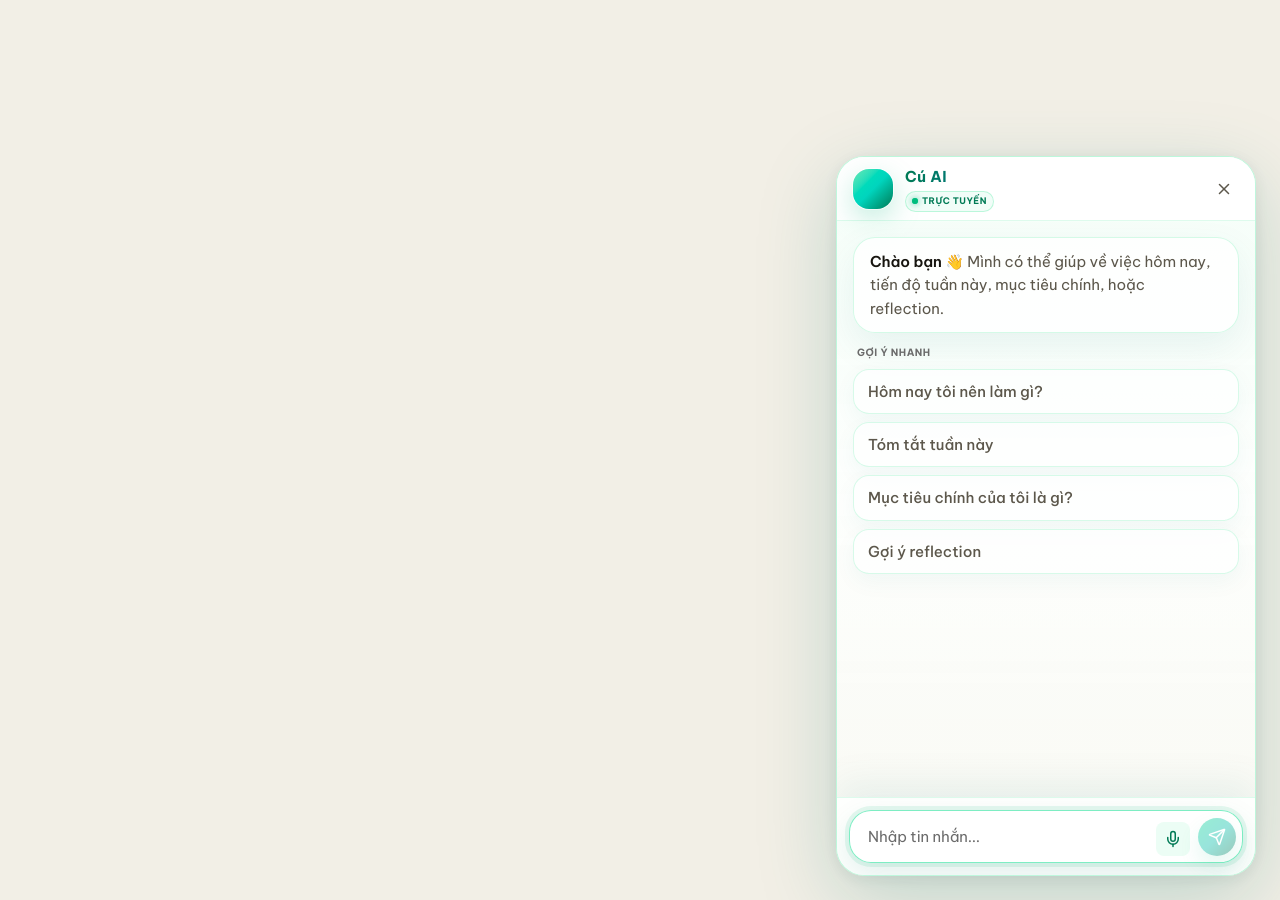
AssistantPanel › supports rejecting an action proposal
Type "tạo mục tiêu học tiếng anh" into the text box with placeholder "Nhập tin nhắn..." at (1002, 836), box [856,817,1148,856]
Then press Enter
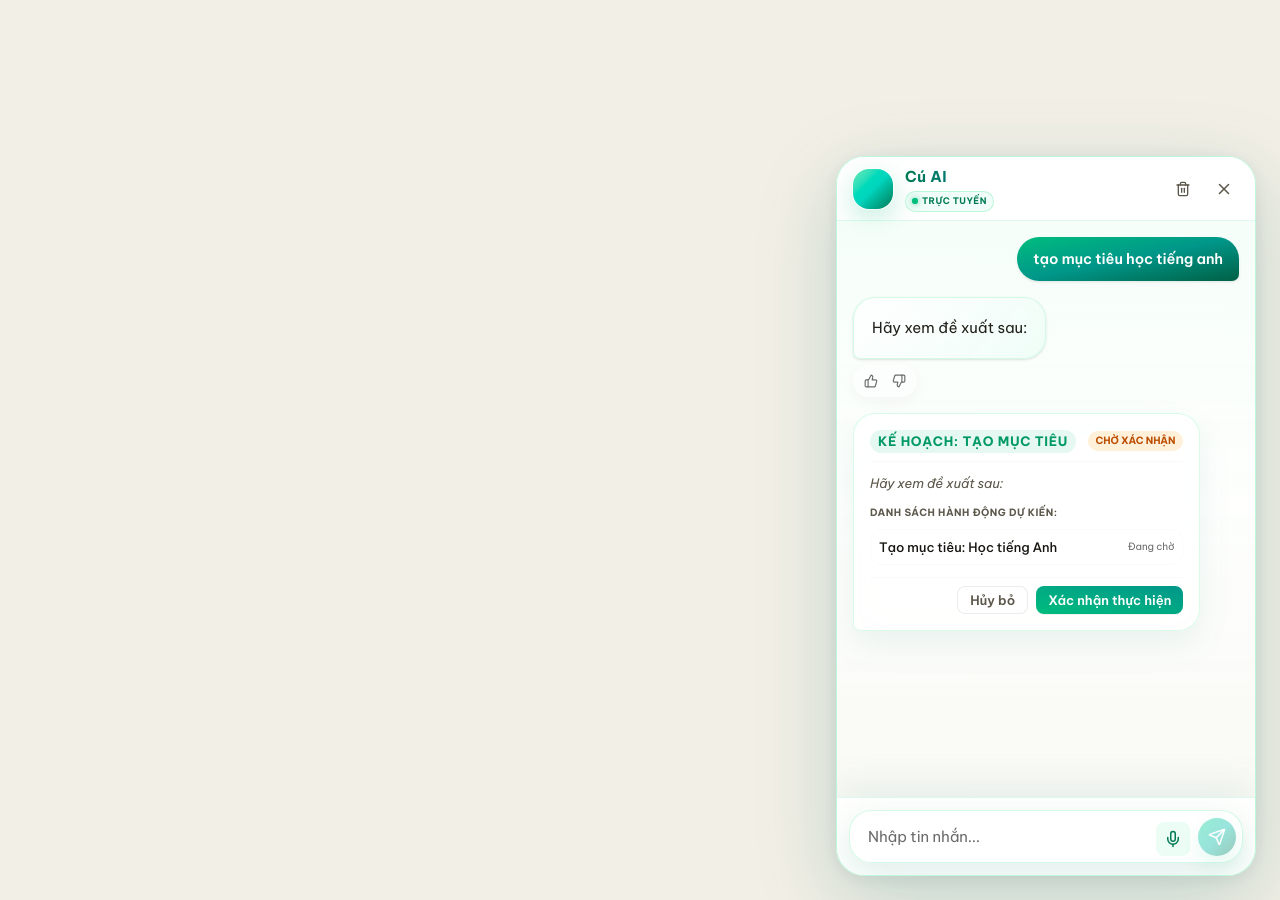
Expected: the text "Tạo mục tiêu: Học tiếng Anh" is shown, [879,538,1057,556]
Expected: the button "Hủy bỏ" is shown
Expected: the button "Xác nhận thực hiện" is shown, [1036,586,1183,614]
// Click hủy
Click the button "Hủy bỏ" at (993, 600), box [957,586,1028,614]
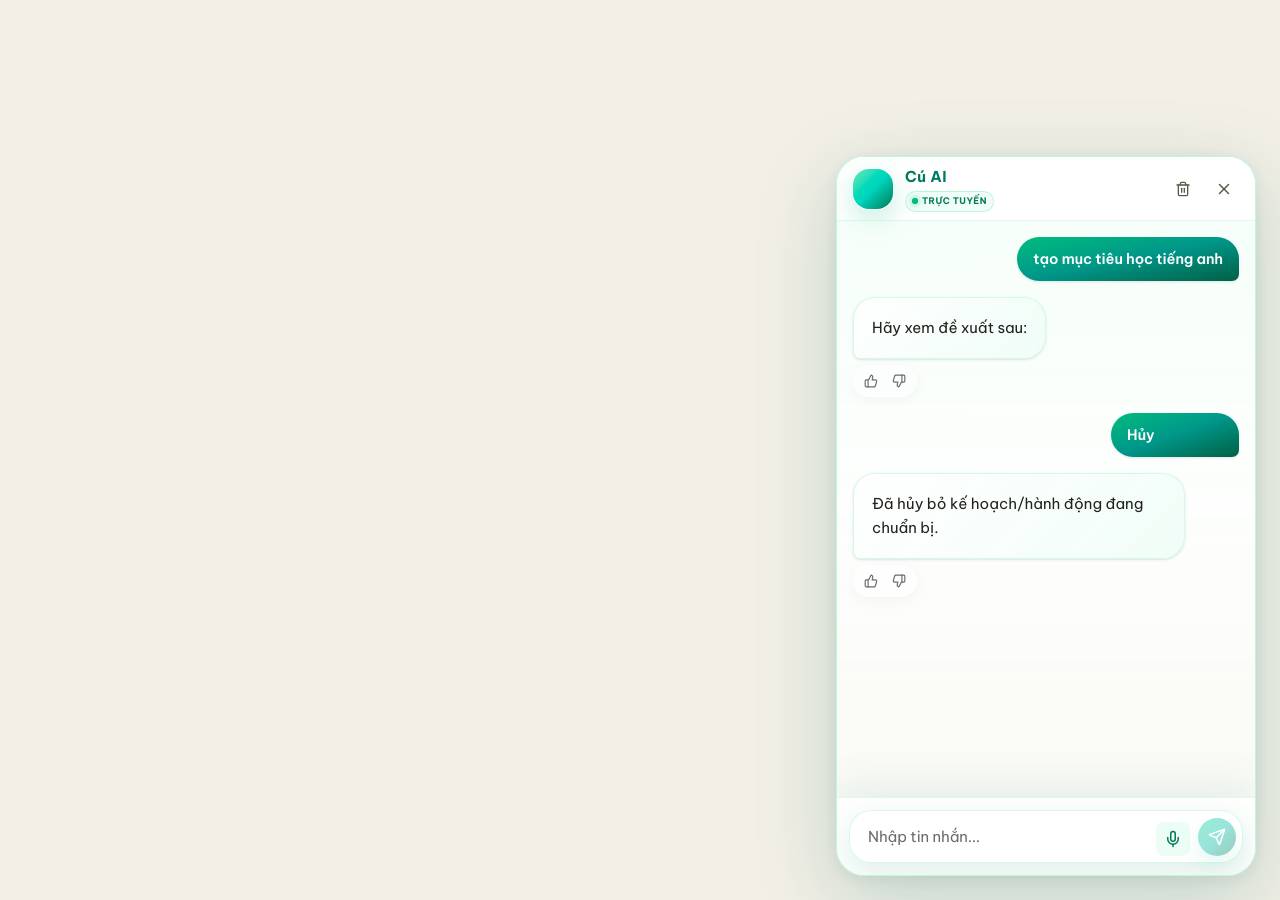
Expected: the text "Đã hủy bỏ kế hoạch/hành động đang chuẩn bị." is shown, [872,492,1166,540]
Expected: the button "Xác nhận thực hiện" is gone
